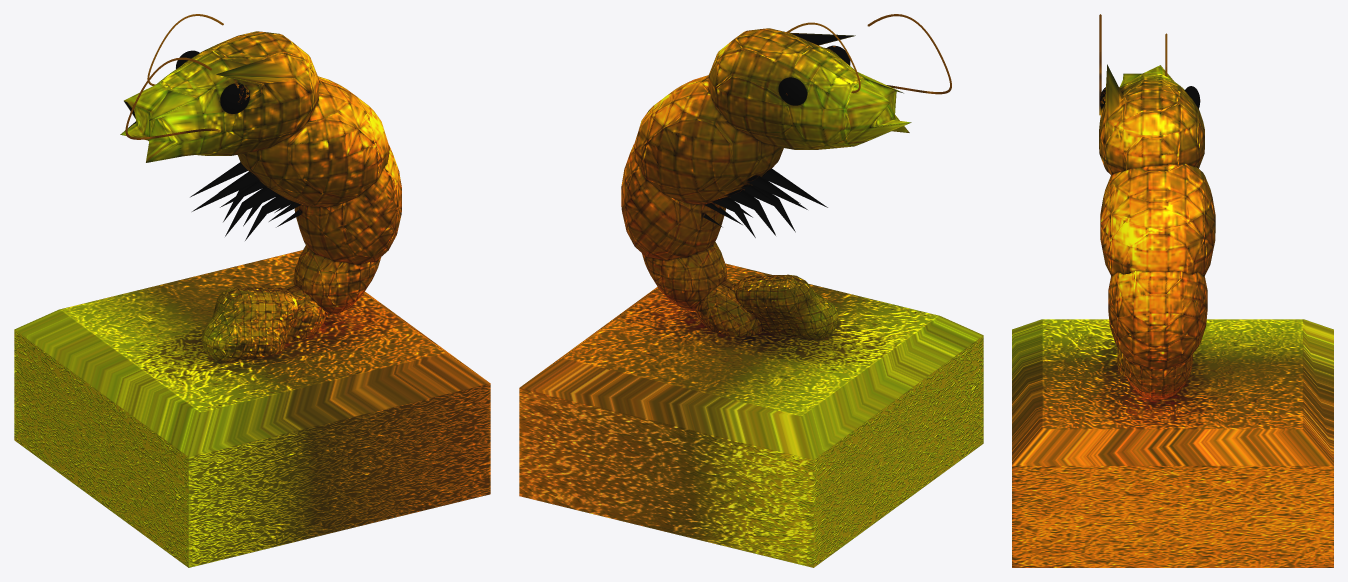
The model's file is bronzeen_shrimpo.glb.
3 renders of one model, left to right at view 1: azimuth 30°, elevation 25°; view 2: azimuth 150°, elevation 25°; view 3: azimuth 270°, elevation 25°, orthographic. The views are drawn at different scales.
Parts seen in each view (by area): view 1: Cube, NurbsPath.001; view 2: Cube, NurbsPath.001; view 3: Cube, NurbsPath.001.
Boxes of the visible parts, left/top/right/bottom form: Cube: left=14, top=250, right=490, bottom=567; NurbsPath.001: left=120, top=14, right=401, bottom=361; Cube: left=519, top=263, right=983, bottom=567; NurbsPath.001: left=621, top=14, right=951, bottom=339; Cube: left=1012, top=319, right=1333, bottom=567; NurbsPath.001: left=1099, top=14, right=1215, bottom=399.
Bounding box in the file's own units: 2.1 × 2.98 × 2.
2 materials, 2 textured.
